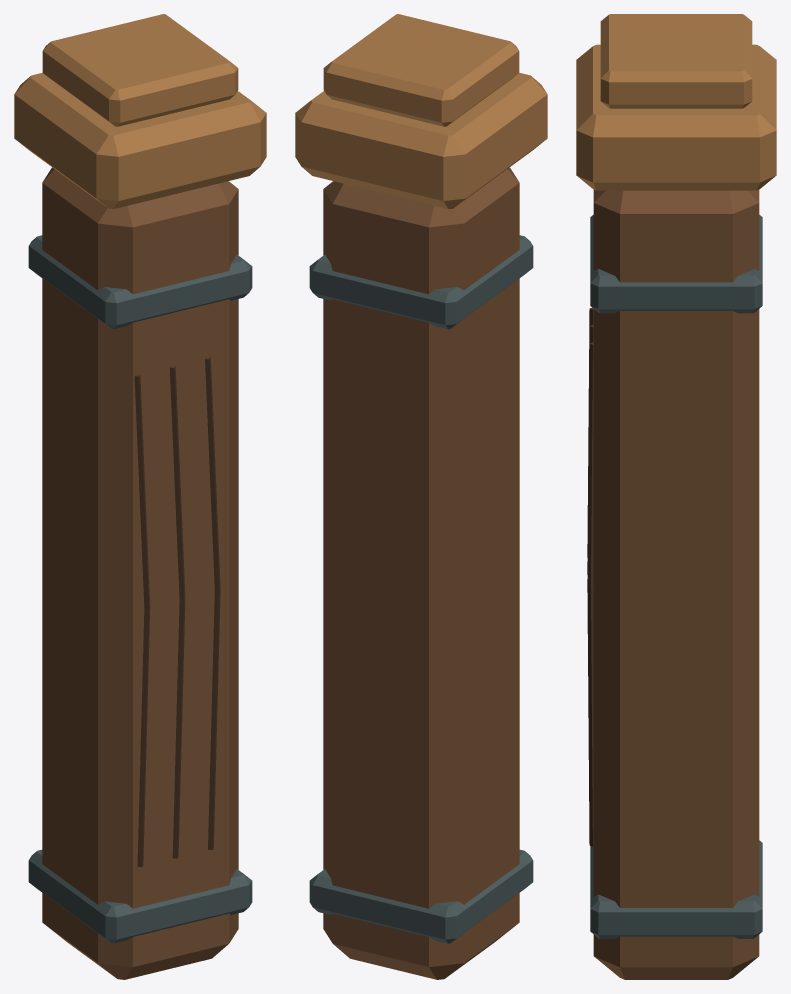
The model's file is BridgePost.glb.
The picture shows the model from 3 angles, left to right: view 1: azimuth 30°, elevation 25°; view 2: azimuth 150°, elevation 25°; view 3: azimuth 270°, elevation 25°; orthographic projection.
Visible parts, largest first — view 1: BridgePost; view 2: BridgePost; view 3: BridgePost.
Part boxes in pixels (bbox=[...]): BridgePost: bbox=[14, 14, 266, 979]; BridgePost: bbox=[295, 14, 547, 979]; BridgePost: bbox=[576, 14, 776, 979].
Size of the model in its own units: 0.29 by 1.46 by 0.29.
